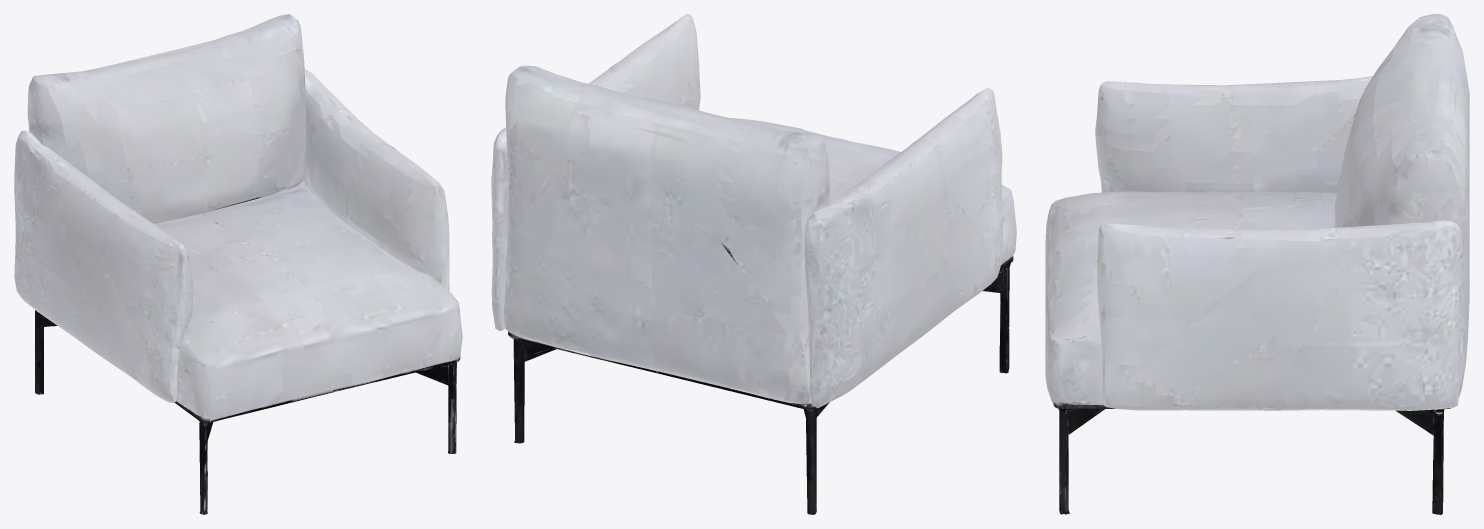
The model's file is SofaChair_ST-optimized.glb.
The picture shows the model from 3 angles, left to right: view 1: azimuth 30°, elevation 25°; view 2: azimuth 150°, elevation 25°; view 3: azimuth 270°, elevation 25°; orthographic projection. The views are drawn at different scales.
Parts seen in each view (by area): view 1: mesh_node; view 2: mesh_node; view 3: mesh_node.
Part boxes in pixels (x1,y1,x2,y2): mesh_node: (14,14,462,514); mesh_node: (491,14,1016,514); mesh_node: (1045,14,1469,514).
Bounding box in the file's own units: 0.9512 × 0.9394 × 1.
Materials: 1 (1 with a texture image).
